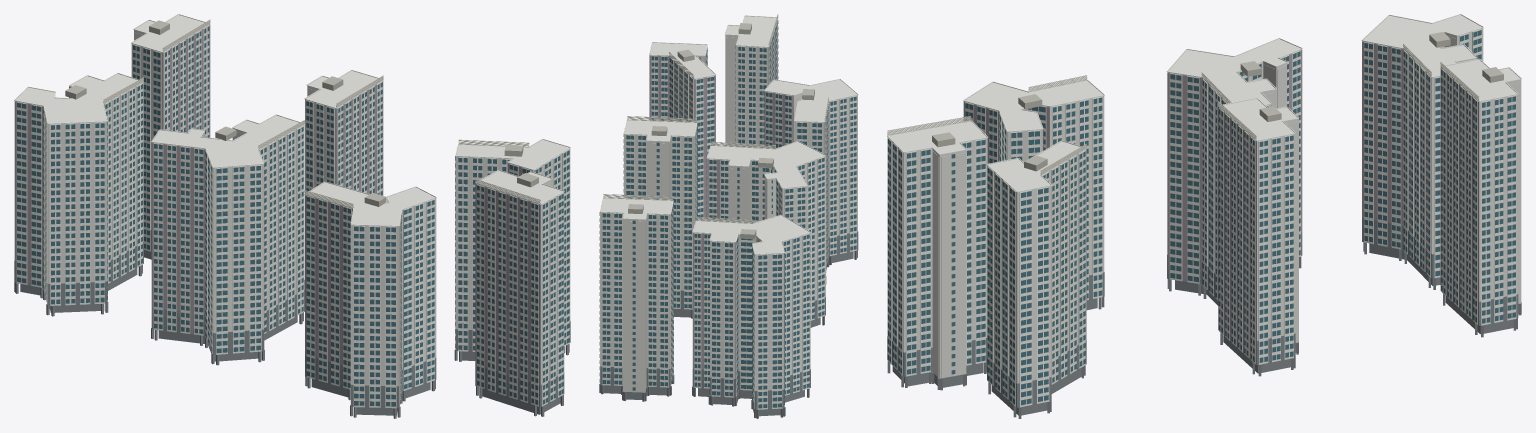
The model's file is representative-a10026004.glb.
3 renders of one model, left to right at view 1: azimuth 30°, elevation 25°; view 2: azimuth 150°, elevation 25°; view 3: azimuth 270°, elevation 25°, orthographic. The views are drawn at different scales.
Visible parts, largest first — view 1: A10026004_trim001, A10026004_glass001, A10026004_wall001, A10026004_accent001, A10026004_base001, A10026004_roof001; view 2: A10026004_trim001, A10026004_wall001, A10026004_glass001, A10026004_base001, A10026004_accent001, A10026004_roof001; view 3: A10026004_trim001, A10026004_glass001, A10026004_wall001, A10026004_accent001, A10026004_base001, A10026004_roof001.
Boxes of the visible parts, x1,y1,x2,y2 form: A10026004_trim001: (14, 14, 570, 408); A10026004_glass001: (17, 26, 569, 406); A10026004_wall001: (15, 15, 570, 406); A10026004_accent001: (14, 25, 540, 405); A10026004_base001: (14, 230, 570, 418); A10026004_roof001: (65, 19, 540, 207); A10026004_trim001: (600, 15, 858, 409); A10026004_wall001: (600, 16, 857, 392); A10026004_glass001: (599, 20, 856, 408); A10026004_base001: (599, 231, 858, 418); A10026004_accent001: (649, 28, 824, 396); A10026004_roof001: (603, 14, 828, 239); A10026004_trim001: (887, 14, 1521, 407); A10026004_glass001: (887, 30, 1515, 405); A10026004_wall001: (887, 15, 1521, 383); A10026004_accent001: (963, 41, 1479, 376); A10026004_base001: (887, 218, 1521, 418); A10026004_roof001: (887, 32, 1503, 174).
Size of the model in its own units: 144 by 84.1 by 200.
